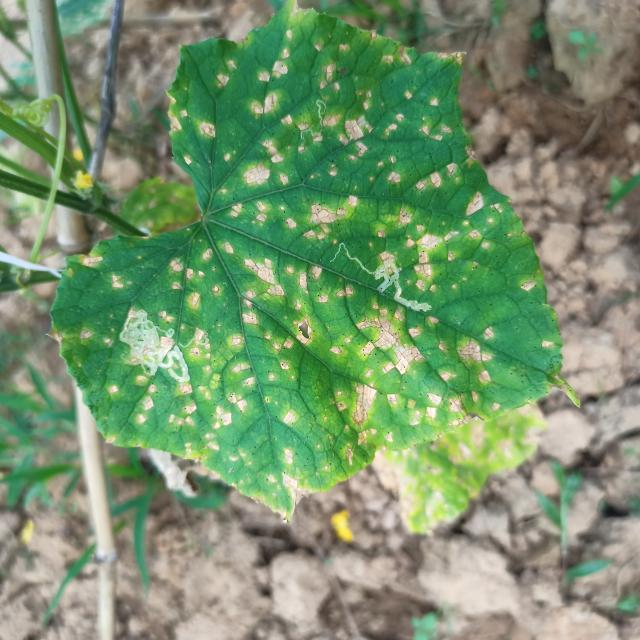disease_cucumber: (93, 48, 510, 494)
